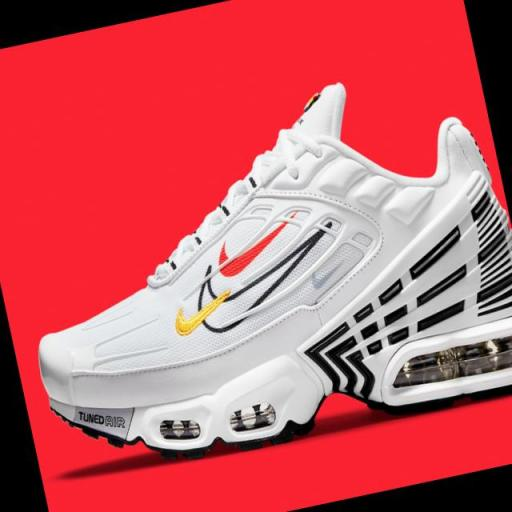Nike: (171, 291, 236, 337)
